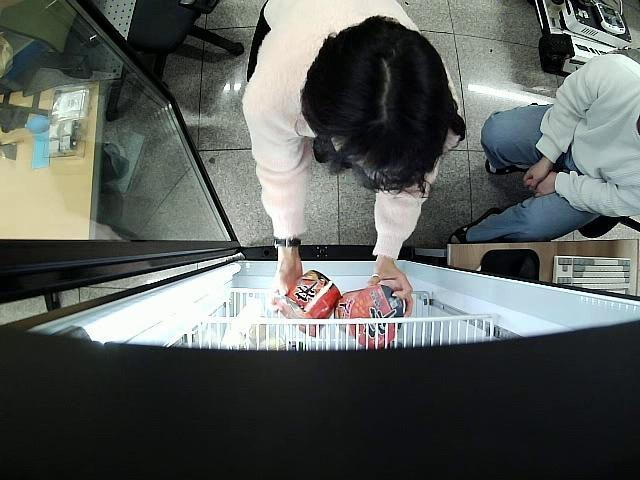01_ShinRamen_L: (271, 269, 342, 335), (336, 284, 406, 348)
